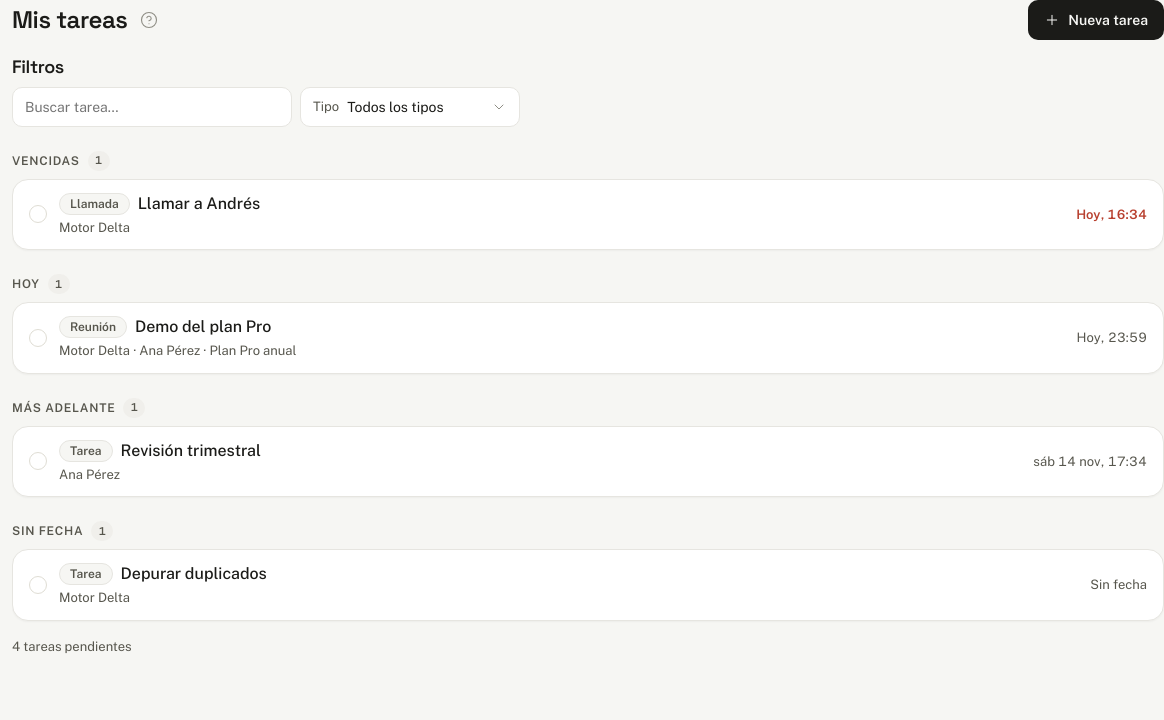
Scenario: MyTasksPage › §29 ADMIN que tilda la suya: el server la devuelve ya confirmada (auto-confirmación) y la fila desaparece sin pasar por 'Esperando confirmación'
The image size is (1164, 720).
Expected: the link "Llamar a Andrés" is shown, [138,192,260,216]
Click the checkbox named "Completar: Llamar a Andrés".
click(38, 214)  # box [29,205,47,223]
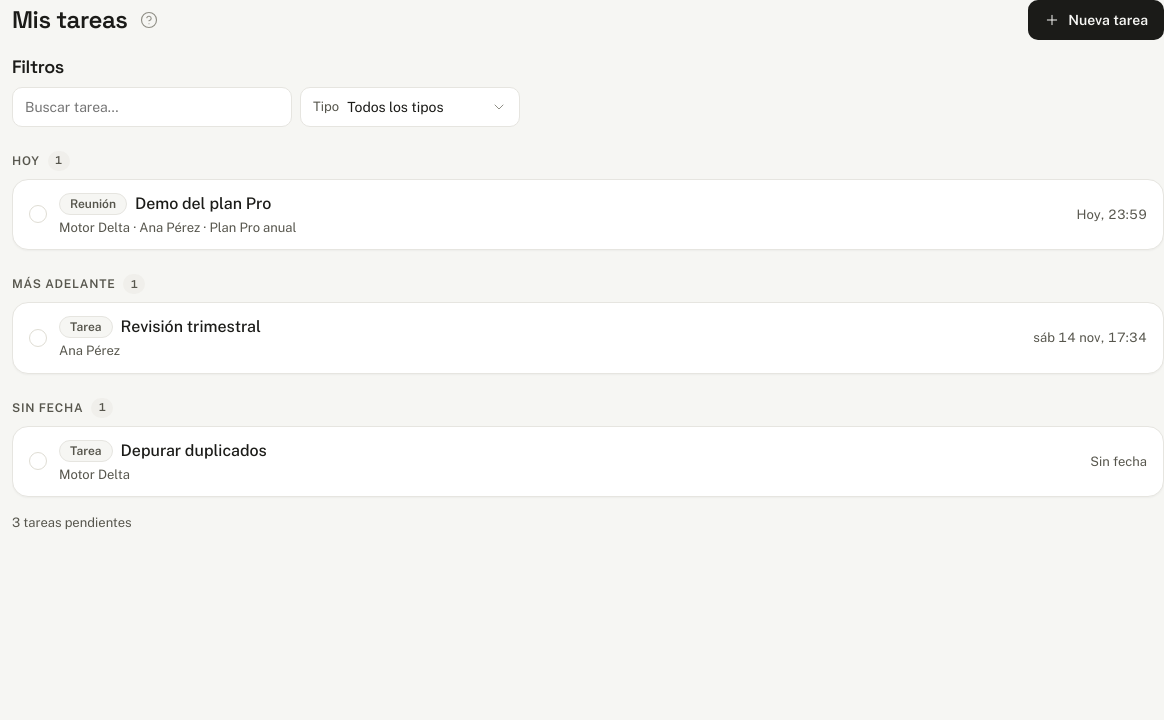
Expected: the link "Llamar a Andrés" is gone
Expected: the text "3 tareas pendientes" is shown, [12,515,132,530]
